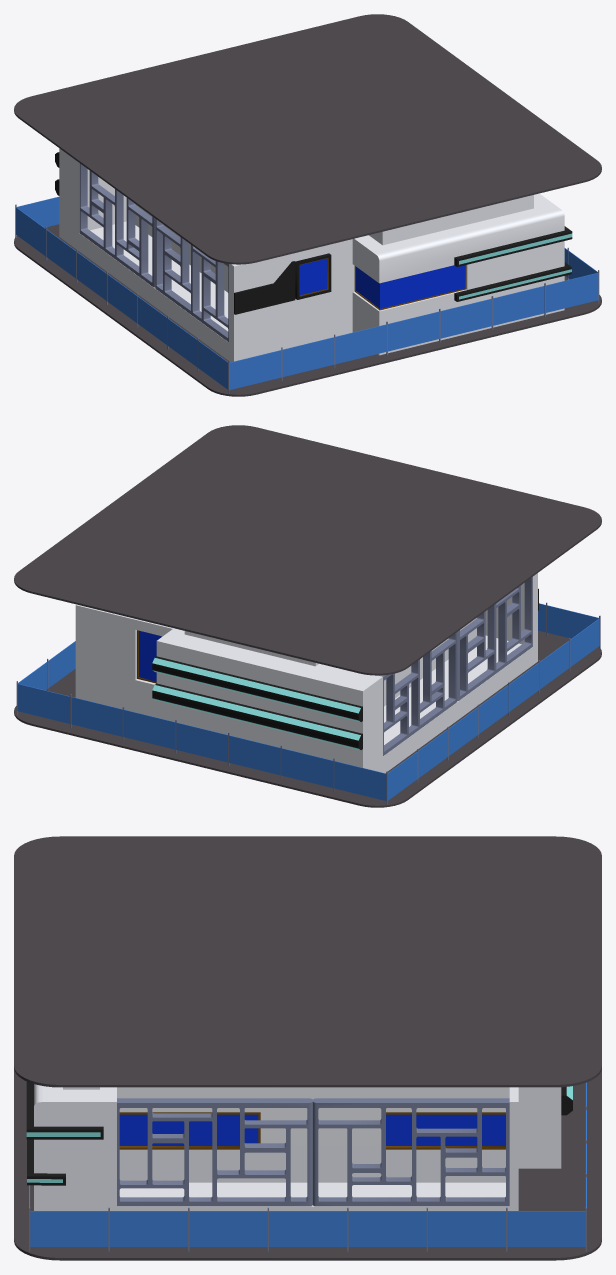
Rendered from SM_B_Mauro1_roof.fbx.
3 views of the same model, one above another, from view 1: azimuth 30°, elevation 25°; view 2: azimuth 150°, elevation 25°; view 3: azimuth 270°, elevation 25° (orthographic). The views are drawn at different scales.
Visible parts, largest first — view 1: Maur_mid.001; view 2: Maur_mid.001; view 3: Maur_mid.001.
Boxes of the visible parts, x1,y1,x2,y2 form: Maur_mid.001: (14,14,601,396); Maur_mid.001: (14,425,601,807); Maur_mid.001: (14,836,601,1260).
Size of the model in its own units: 2100 by 692 by 2100.
